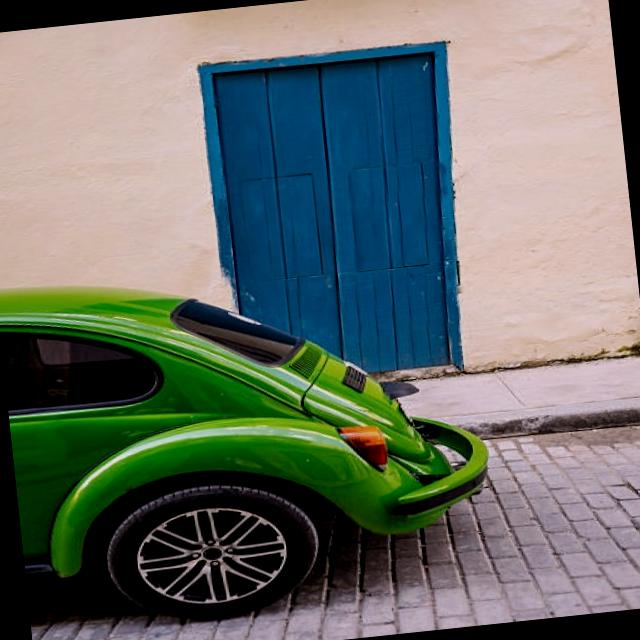car: (0, 250, 498, 608)
